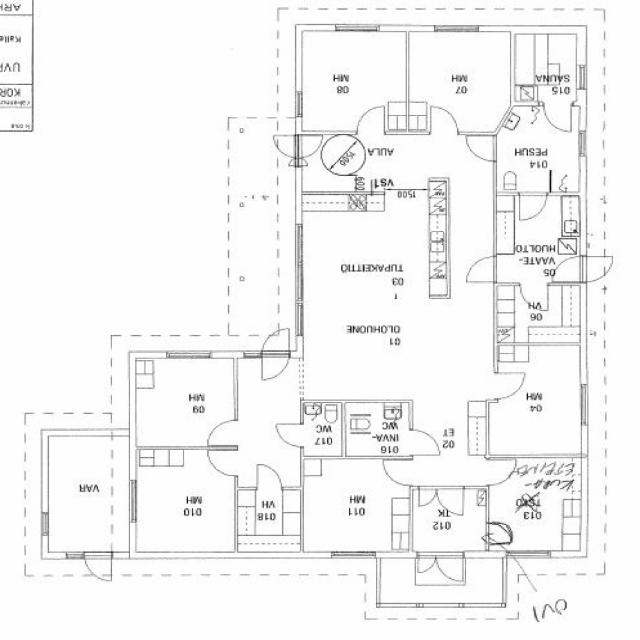door: (262, 325, 289, 358), (580, 256, 614, 282), (553, 256, 587, 282), (519, 282, 548, 312), (84, 552, 112, 583), (262, 351, 289, 383), (520, 192, 548, 221), (410, 429, 441, 455), (436, 486, 464, 514), (357, 106, 385, 134), (431, 106, 459, 134), (208, 420, 238, 446), (486, 460, 516, 486), (466, 256, 496, 282), (544, 103, 571, 131), (437, 552, 462, 582), (466, 136, 496, 161), (494, 373, 524, 398), (383, 460, 413, 485), (208, 451, 238, 475), (295, 136, 326, 158), (271, 136, 302, 158), (258, 465, 282, 490), (276, 424, 303, 446), (486, 523, 512, 544), (418, 552, 437, 575), (419, 486, 436, 505), (295, 158, 311, 166), (286, 158, 302, 166)
